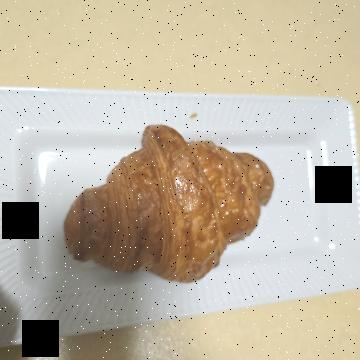croissant: (112, 84, 294, 313)
